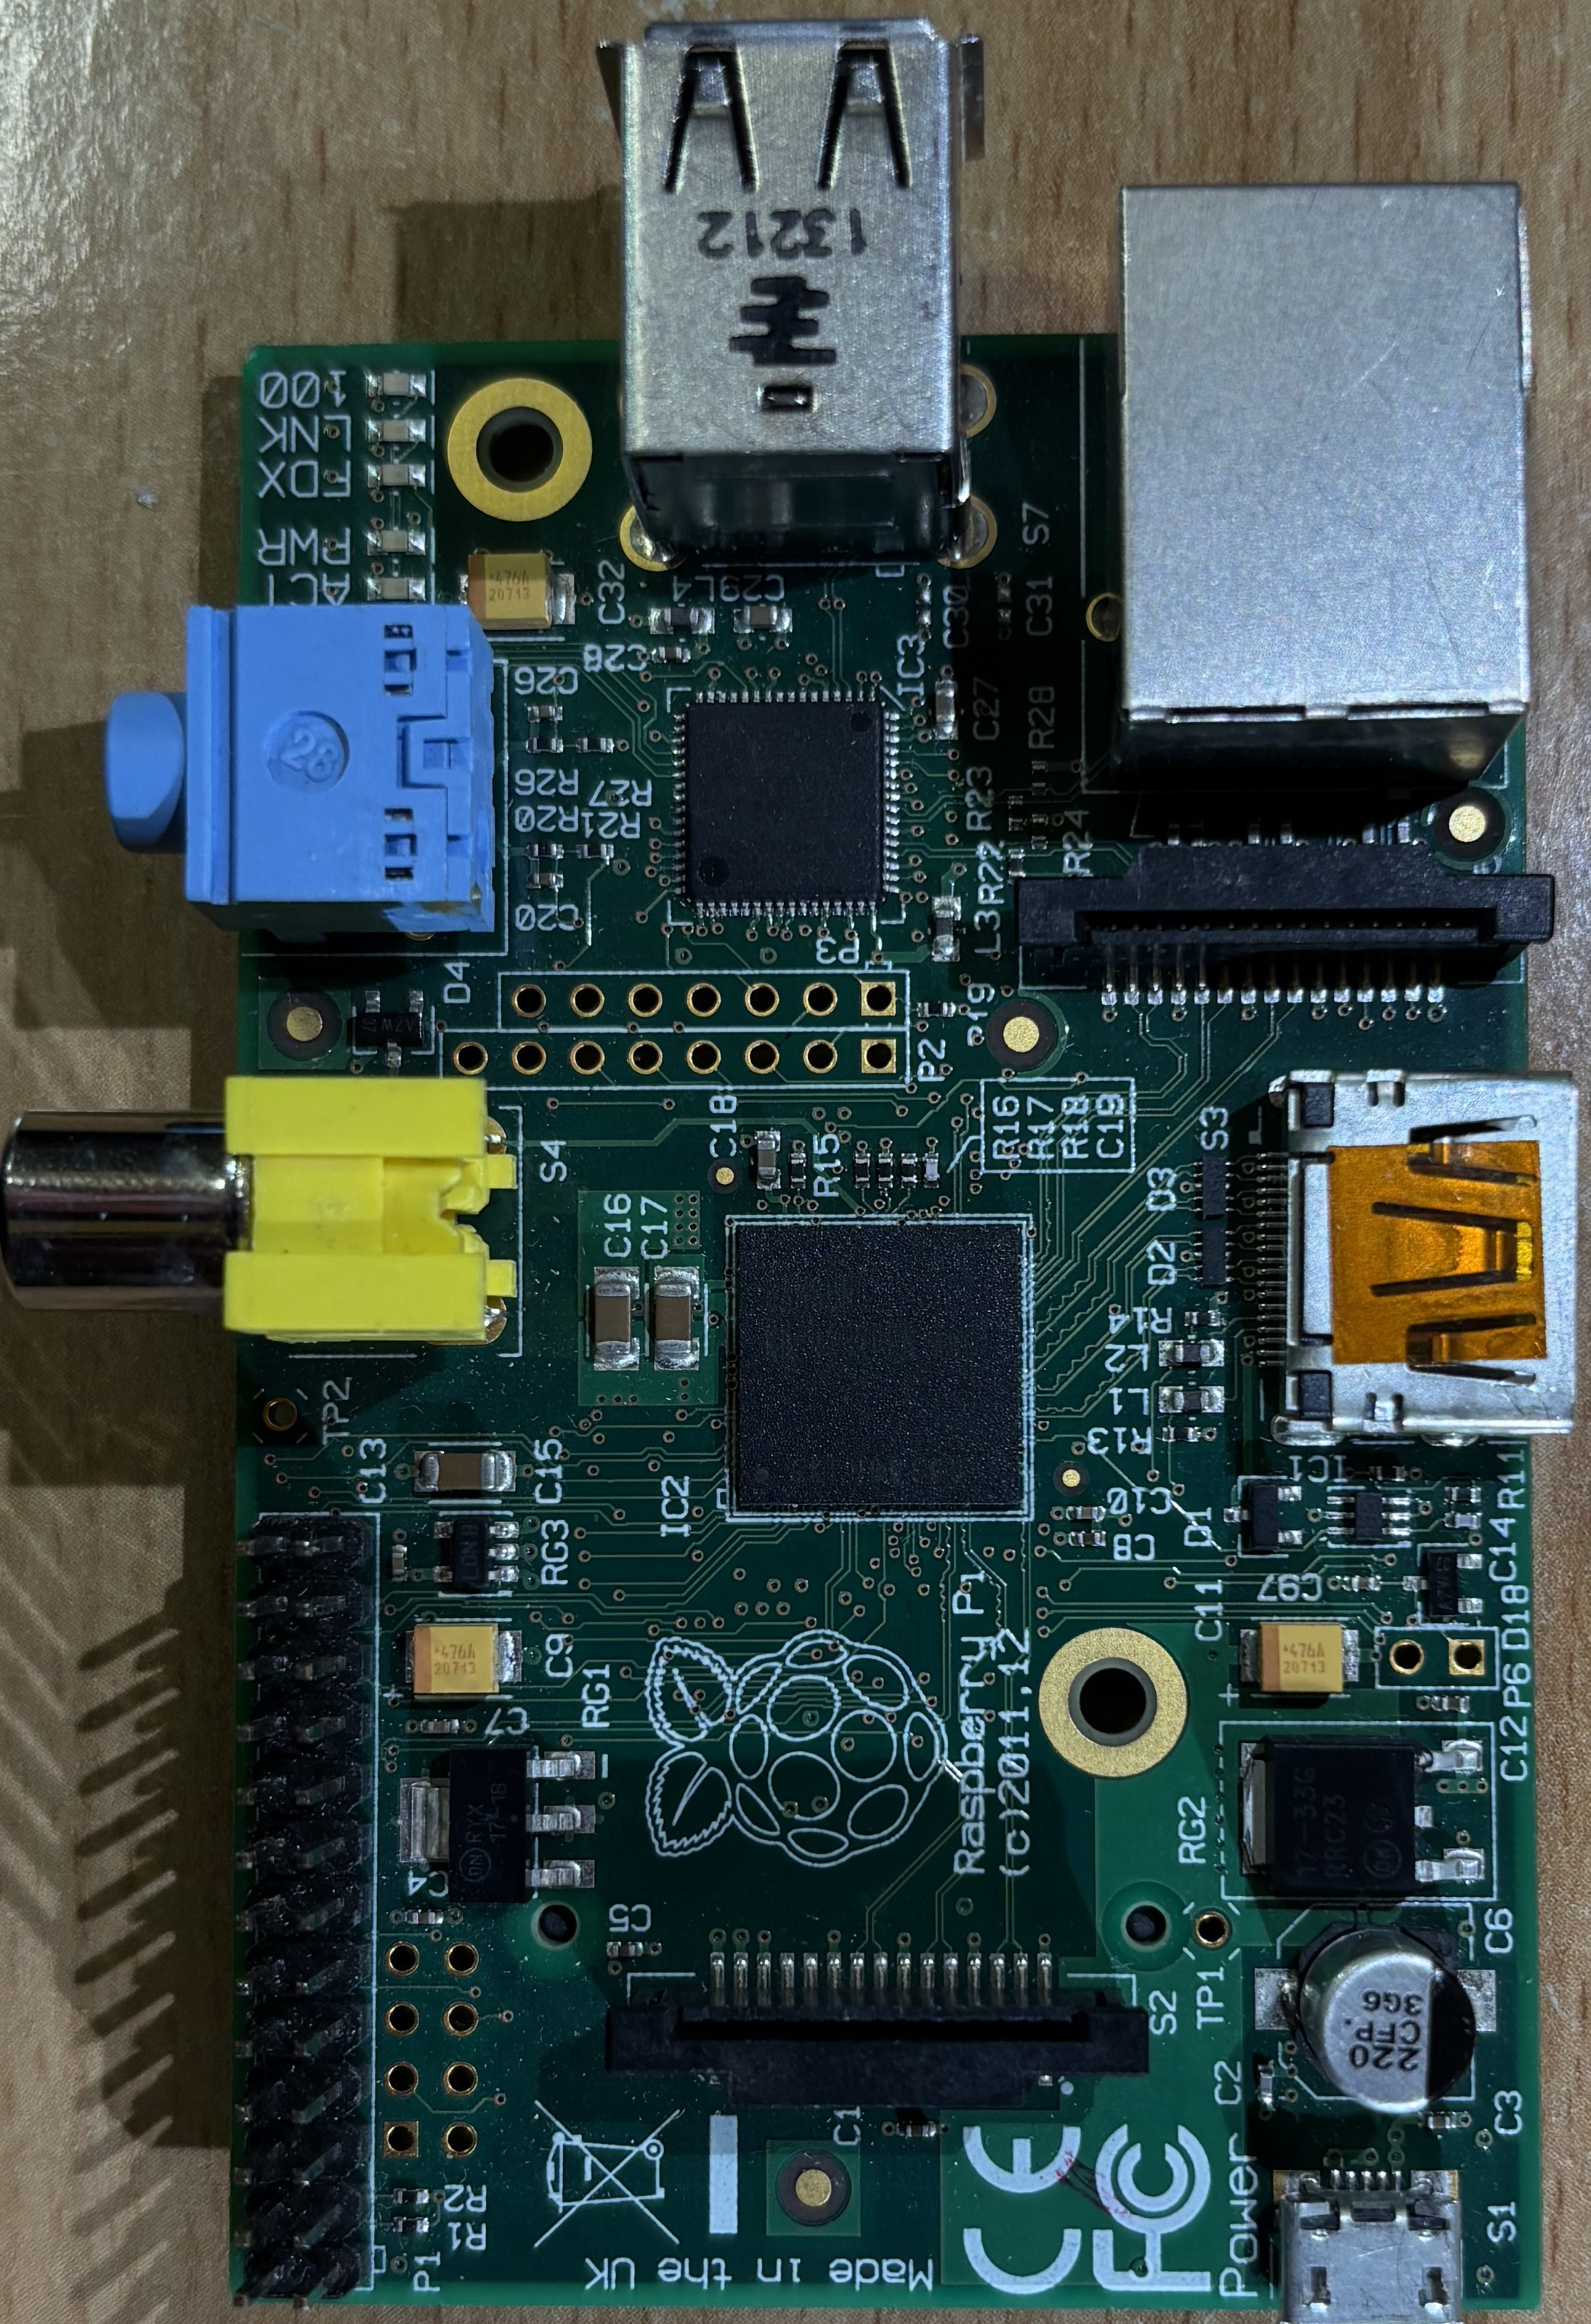Induktor: (1171, 1390, 1211, 1409), (934, 909, 955, 947), (1173, 1342, 1211, 1362)
